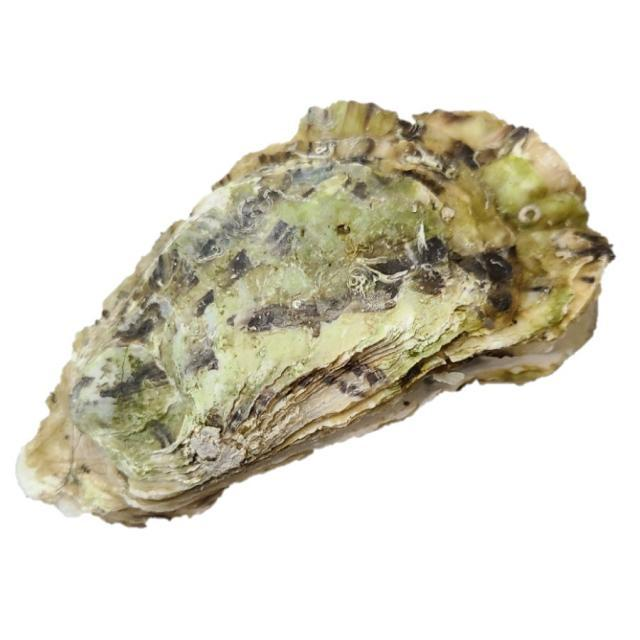Oyster- Indeterminate: (14, 90, 620, 540)
